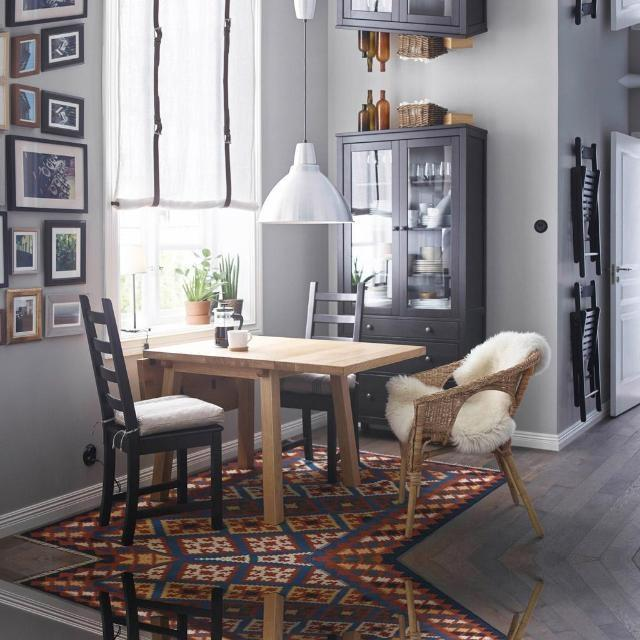obstacle: (140, 330, 430, 524), (77, 292, 225, 544), (386, 326, 554, 544), (139, 591, 430, 640), (385, 573, 554, 640), (77, 572, 225, 640)
